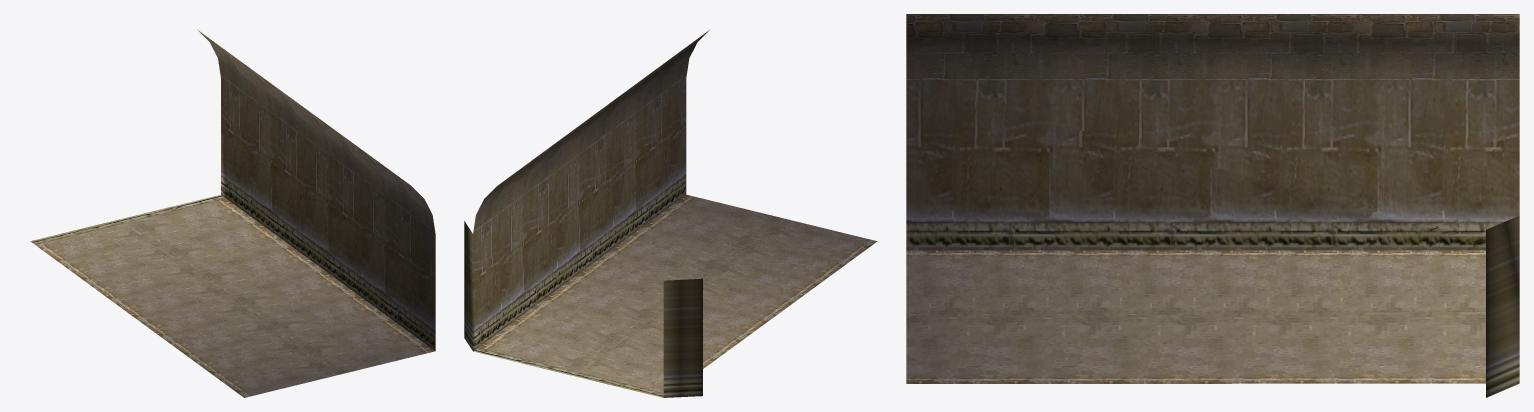
Rendered from M7Z4_Tunnel2.glb.
3 views of the same model, side by side, from view 1: azimuth 30°, elevation 25°; view 2: azimuth 150°, elevation 25°; view 3: azimuth 270°, elevation 25° (orthographic). The views are drawn at different scales.
Visible parts, largest first — view 1: M7Z4_TUNNEL2; view 2: M7Z4_TUNNEL2; view 3: M7Z4_TUNNEL2.
Boxes of the visible parts, x1,y1,x2,y2 form: M7Z4_TUNNEL2: (30, 30, 435, 397); M7Z4_TUNNEL2: (464, 30, 877, 397); M7Z4_TUNNEL2: (906, 14, 1519, 397).
Size of the model in its own units: 3.7 by 3.02 by 5.75.
2 materials, 2 textured.
